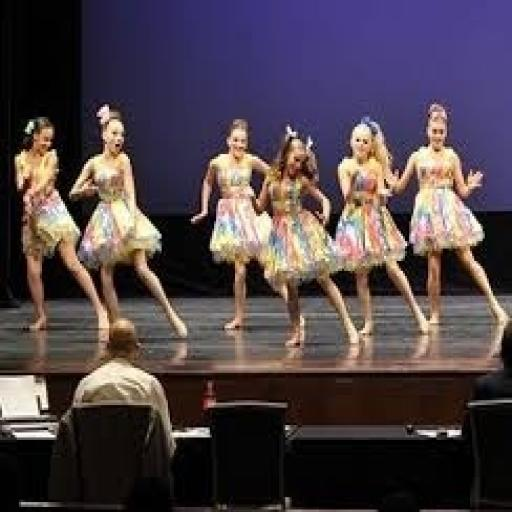dancing: (67, 102, 193, 343), (384, 99, 510, 333), (8, 112, 114, 338), (189, 114, 289, 336)
